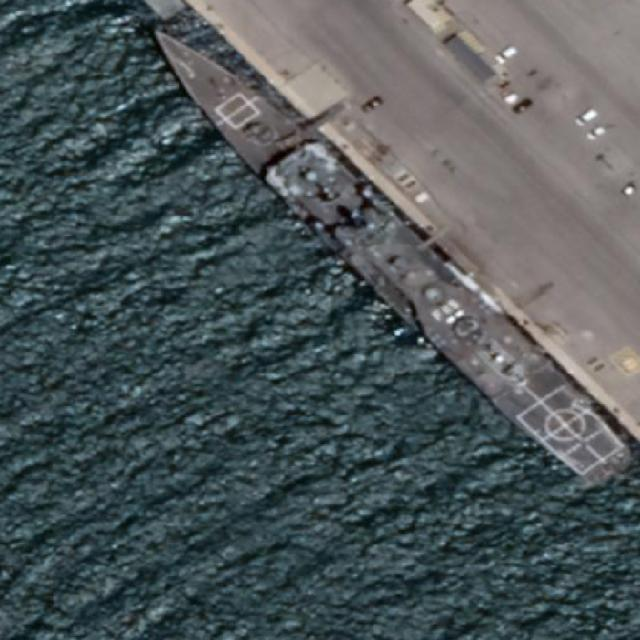Frigate: (134, 1, 634, 493)
